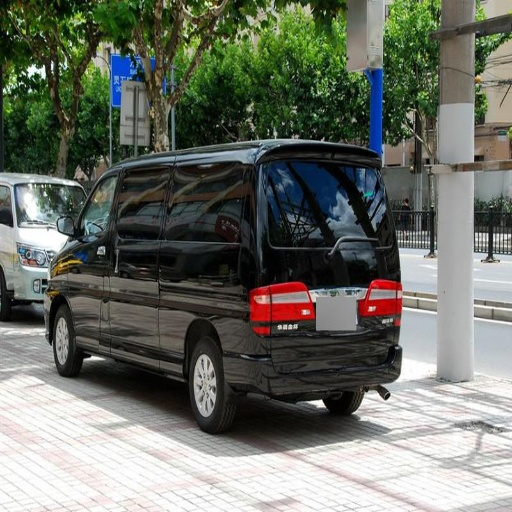back_bumper: (239, 331, 397, 401)
back_glass: (300, 162, 377, 243)
back_left_door: (164, 166, 239, 264)
back_right_door: (257, 157, 309, 249)
trunk: (182, 279, 394, 372)
